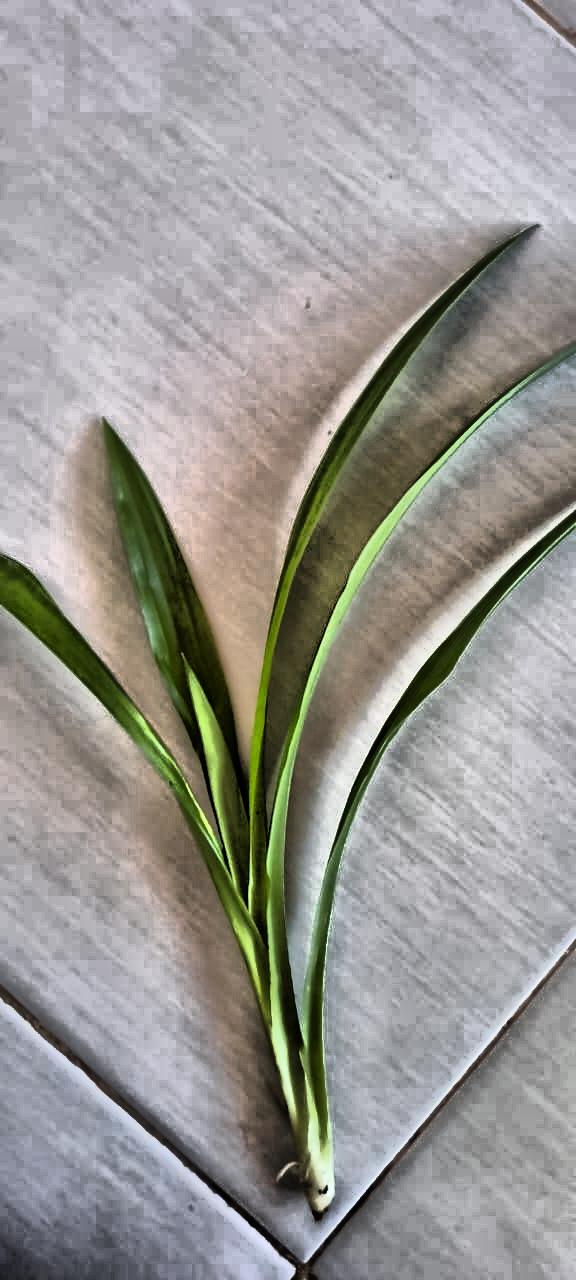daun pandan: (0, 236, 575, 1217)
